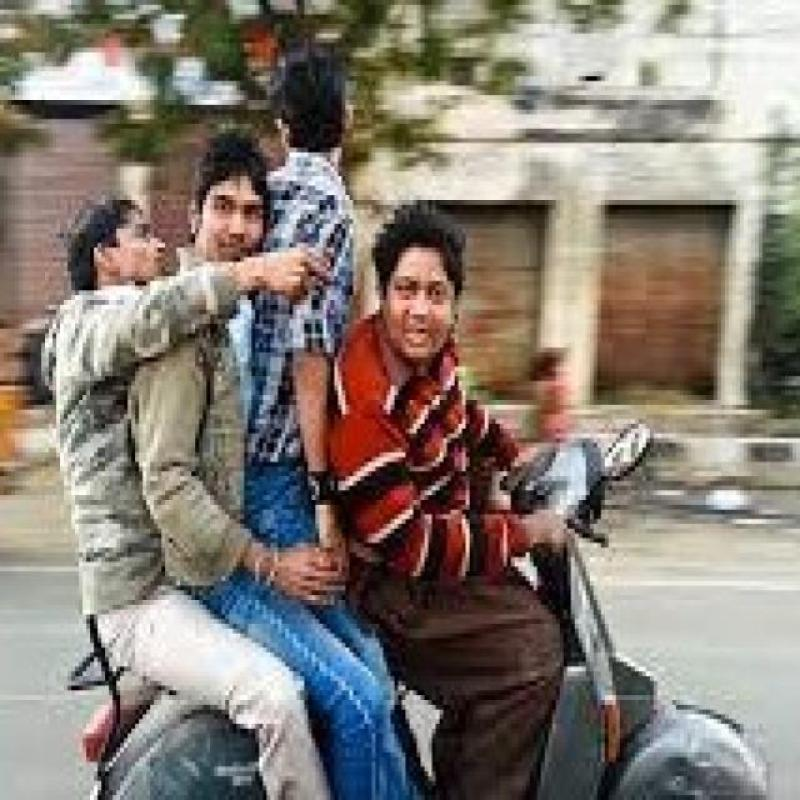nohelmet: (370, 176, 489, 378), (65, 176, 180, 308), (184, 127, 278, 262)
